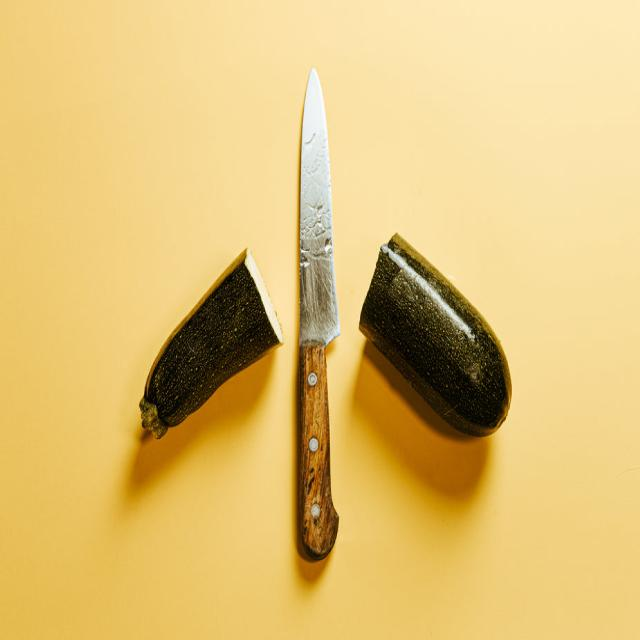knife: (293, 64, 339, 562)
